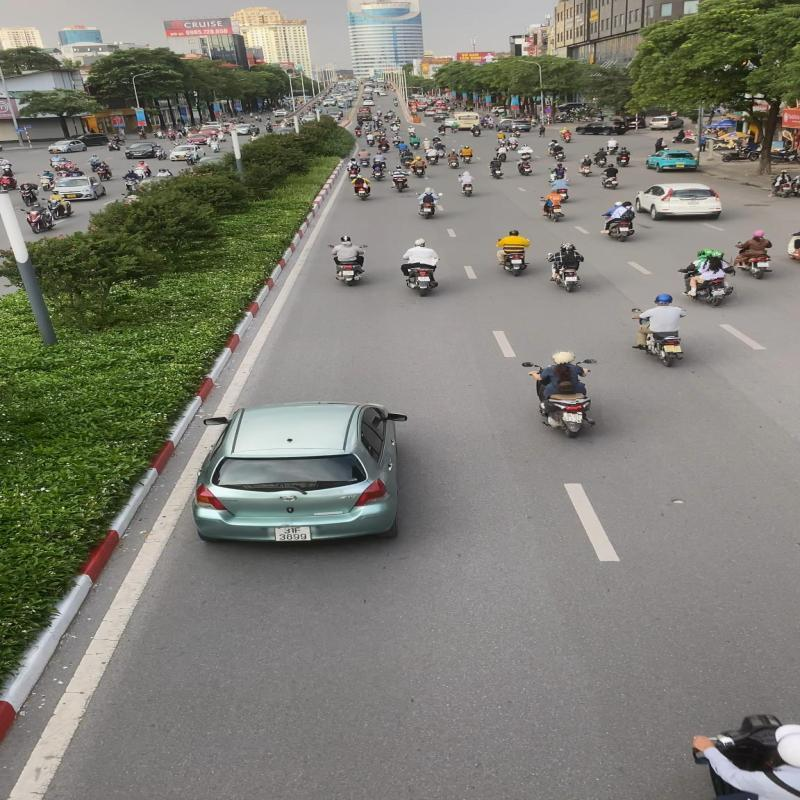helmet: (552, 349, 576, 364), (652, 294, 674, 306), (710, 250, 725, 260), (702, 248, 716, 256), (414, 238, 426, 246)
licenseplate: (521, 349, 603, 442), (560, 412, 584, 424), (662, 344, 684, 354), (709, 290, 726, 297), (417, 276, 430, 282)
motorcyclist: (630, 294, 693, 368), (676, 245, 736, 310), (398, 238, 442, 297)
